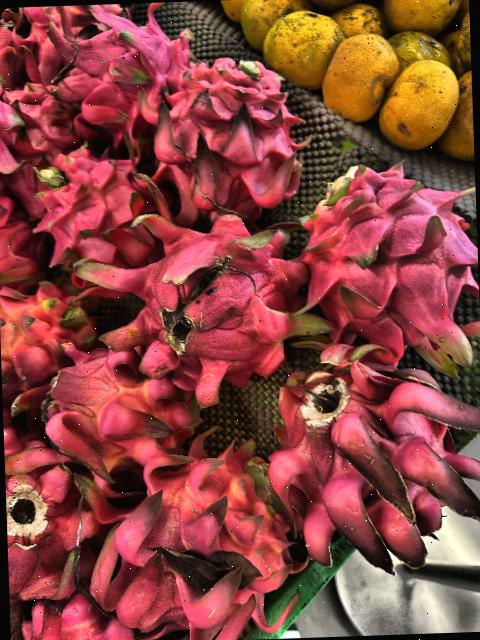buah-naga-matang: (263, 337, 480, 560), (81, 443, 308, 640), (287, 163, 480, 369), (90, 204, 312, 378), (162, 57, 300, 219), (34, 344, 190, 479), (4, 410, 106, 596), (45, 2, 199, 122), (0, 275, 102, 400), (41, 142, 150, 254), (0, 79, 67, 199), (22, 5, 108, 71), (0, 11, 35, 86)
